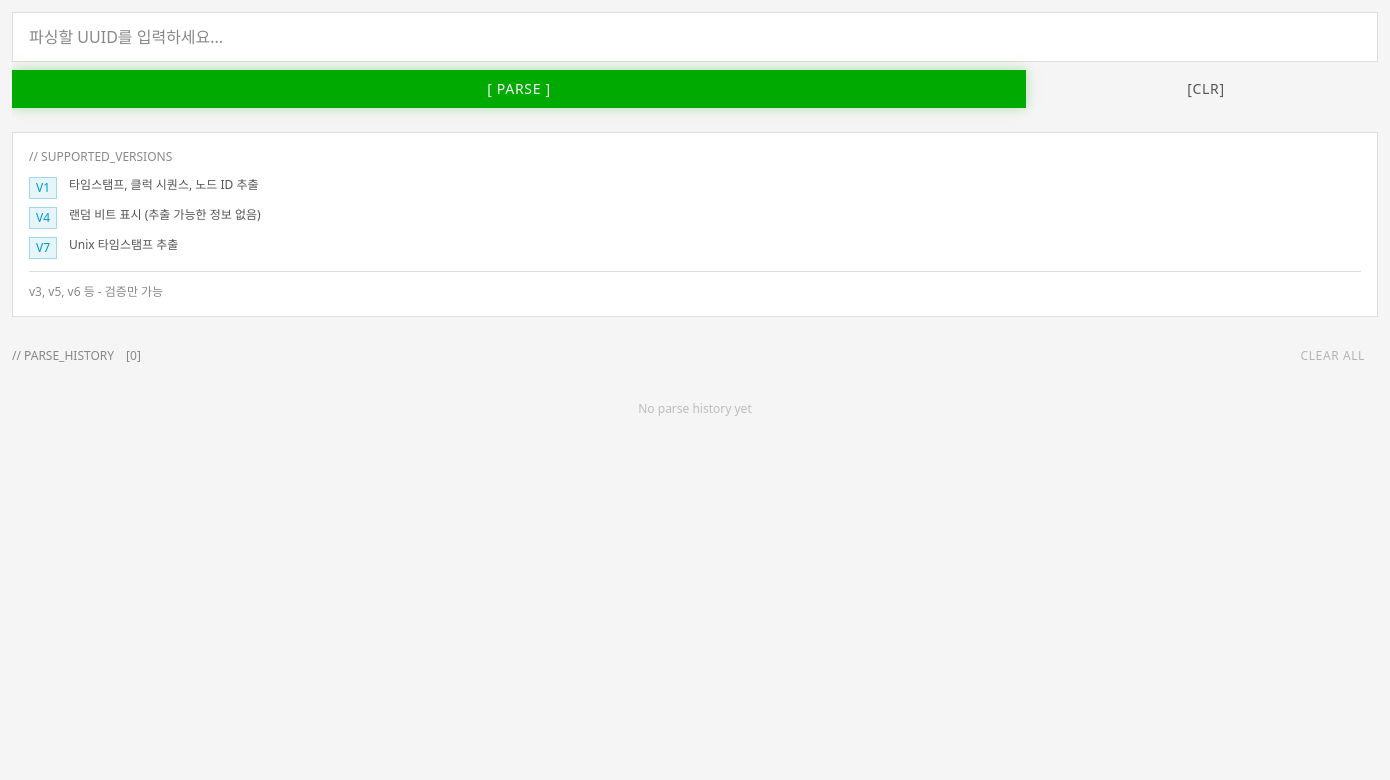
UuidParser › CLR 버튼 클릭 시 입력과 결과를 지워야 함
The image size is (1390, 780).
In the field with placeholder "파싱할 UUID를 입력하세요...": (695, 37) [12,12,1378,62], type "550e8400-e29b-41d4-a716-446655440000"
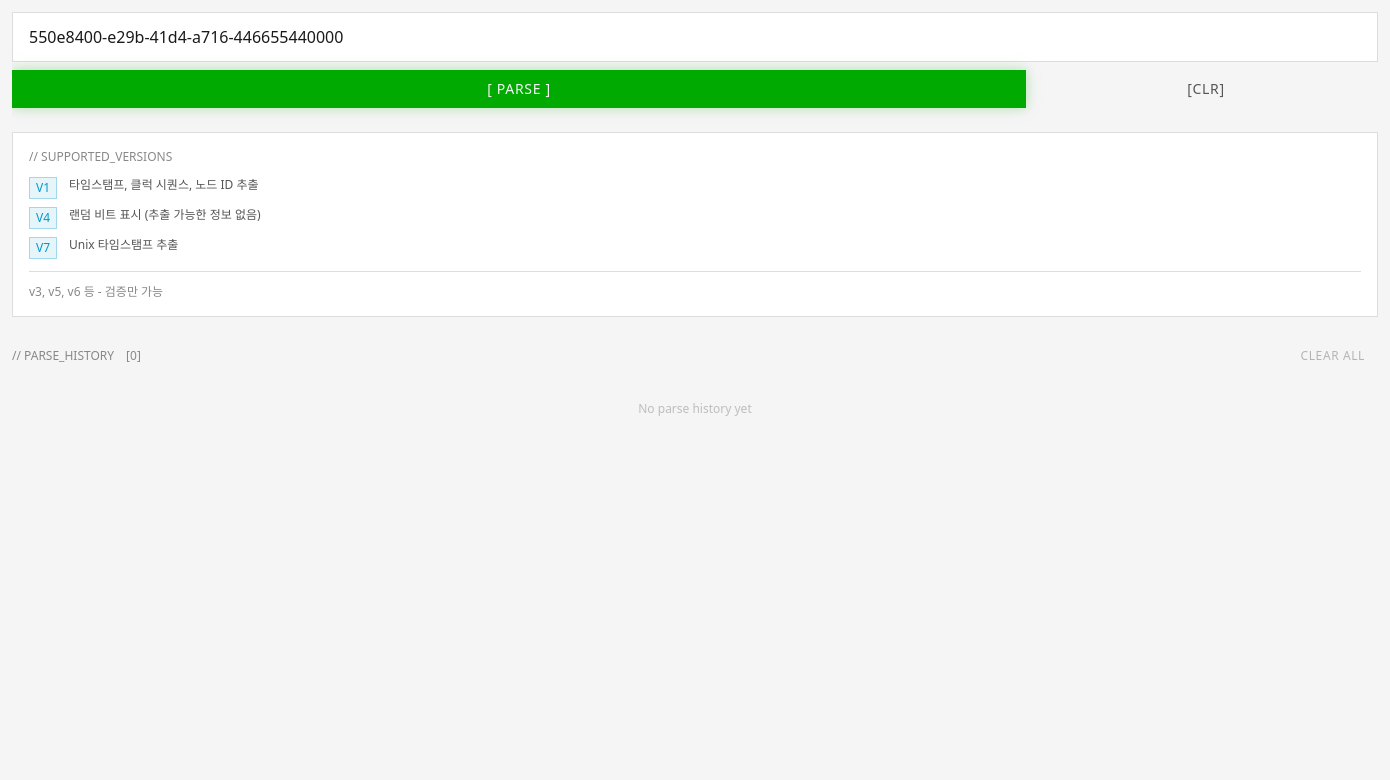
Click the text "[ PARSE ]": (519, 89) [487,79,551,99]
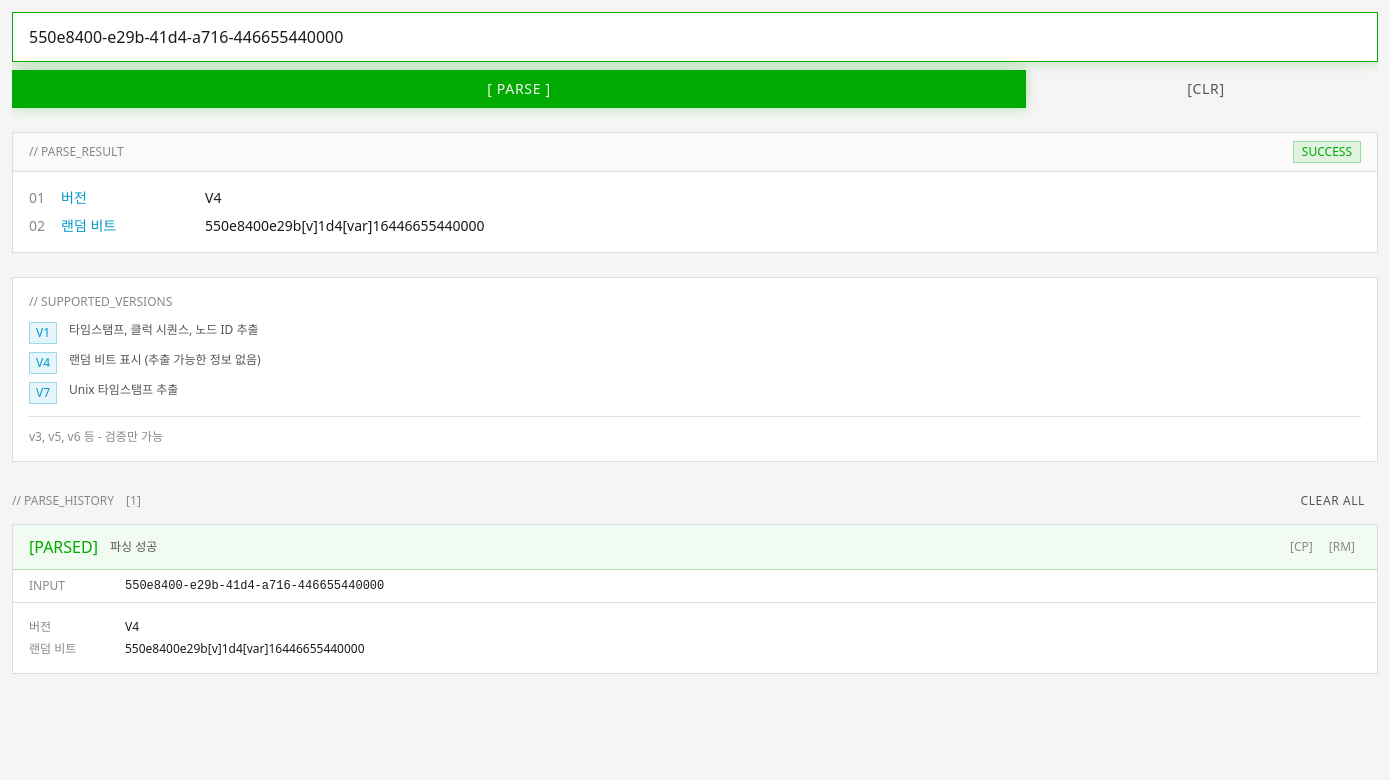
Result: the text "SUCCESS" is shown at [1293,141,1361,163]
Click the button with aria-label "입력 지우기": (1206, 89) [1034,70,1378,108]
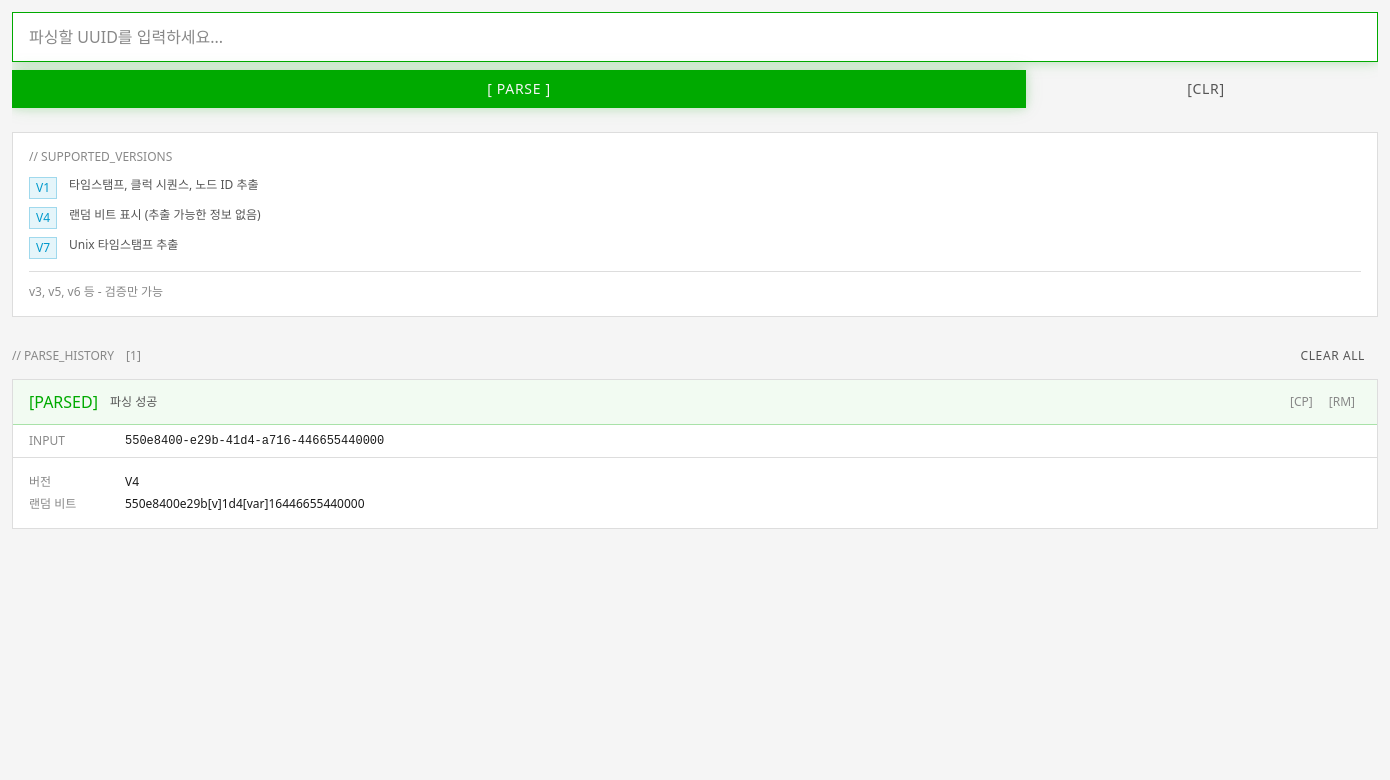
Result: the text "SUCCESS" is gone
Result: the field with placeholder "파싱할 UUID를 입력하세요..." is empty at [12,12,1378,62]
